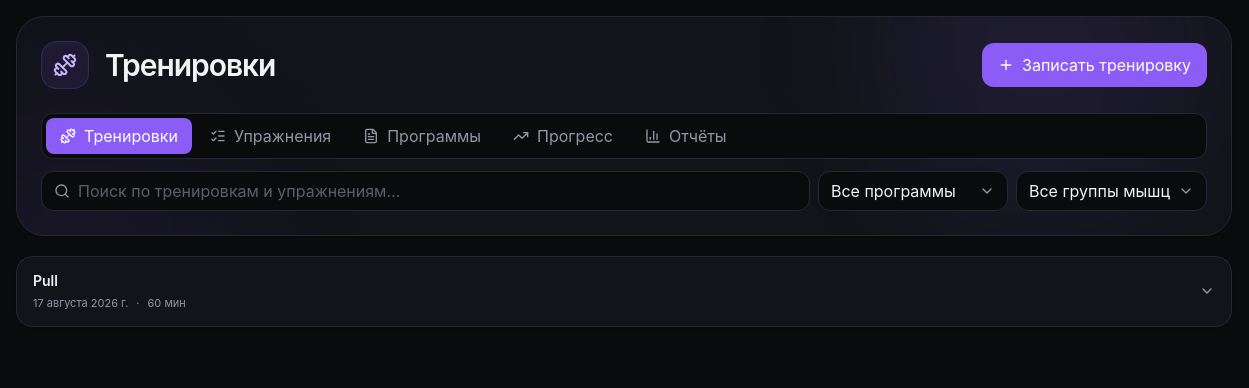
WorkoutsPage › shows the fixed muscle tag in the exercise library
The image size is (1249, 388).
Click the button "Упражнения".
click(271, 136)  # box [196,118,345,154]
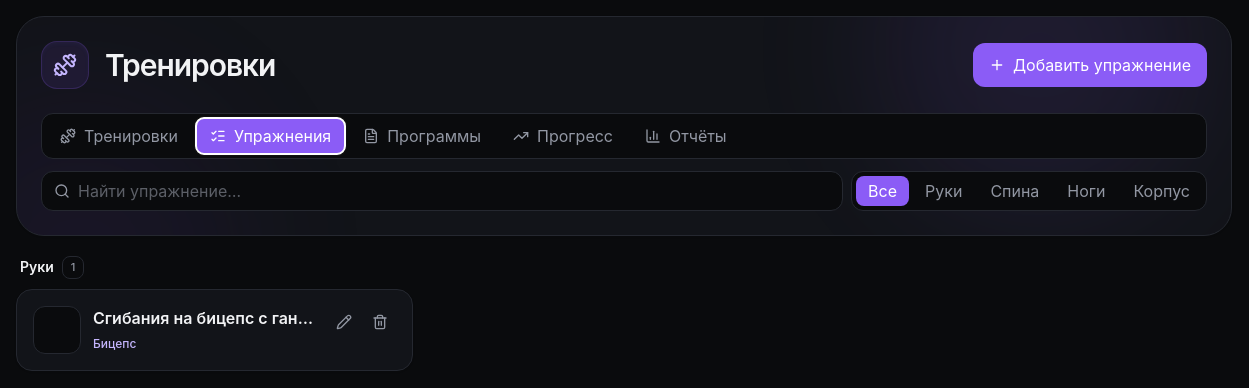
Now the heading "Руки" is shown, box [20,257,54,277]
Now the heading "Сгибания на бицепс с гантелями" is shown, box [93,306,316,330]
Now the text "Бицепс" is shown, box [93,336,136,352]
